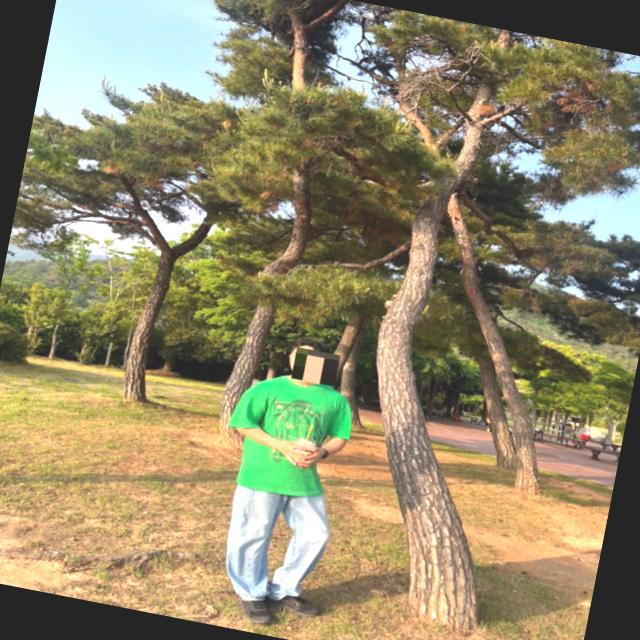denimpants: (215, 482, 338, 618)
shortsleeve: (221, 366, 361, 506)
